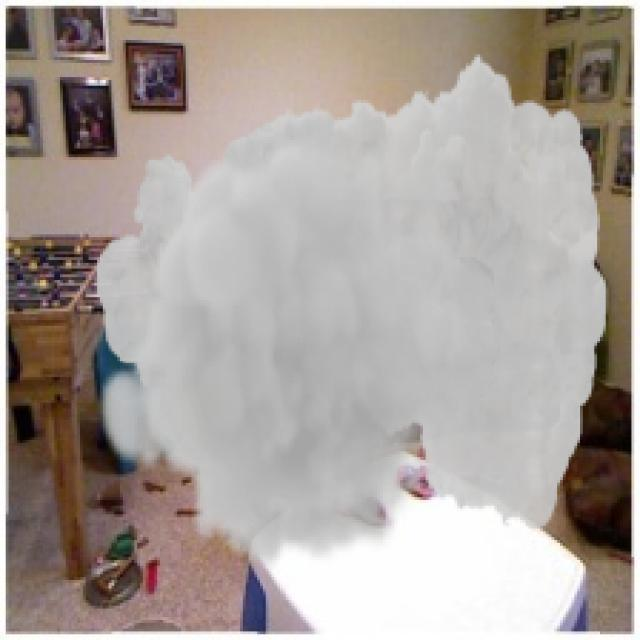Smoke: (94, 51, 609, 572)
